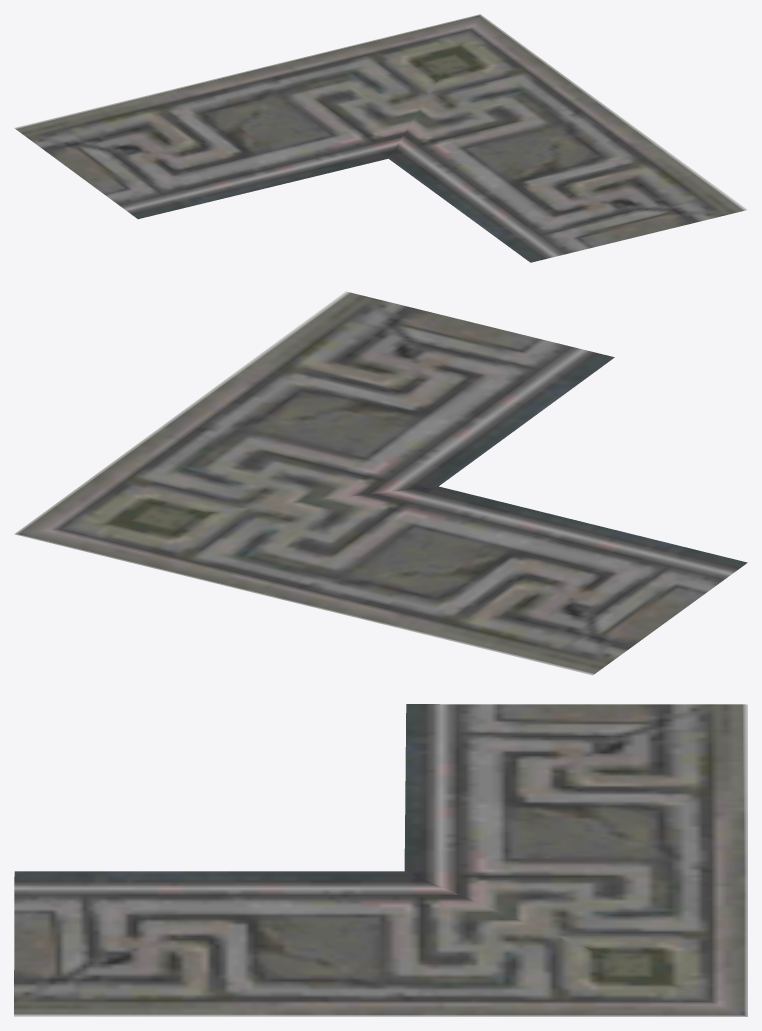
The model's file is h5_dibian_c.FBX.
The picture shows the model from 3 angles, top to bottom: view 1: azimuth 30°, elevation 25°; view 2: azimuth 150°, elevation 25°; view 3: azimuth 270°, elevation 25°; orthographic projection. The views are drawn at different scales.
Visible parts, largest first — view 1: h5_dibian_c; view 2: h5_dibian_c; view 3: h5_dibian_c.
Boxes of the visible parts, x1=… form: h5_dibian_c: x1=14, y1=14, x2=747, y2=262; h5_dibian_c: x1=14, y1=291, x2=747, y2=675; h5_dibian_c: x1=14, y1=704, x2=747, y2=1016.
Bounding box in the file's own units: 6.49 × 2.86e-06 × 6.44.
Materials: 1 (1 with a texture image).
